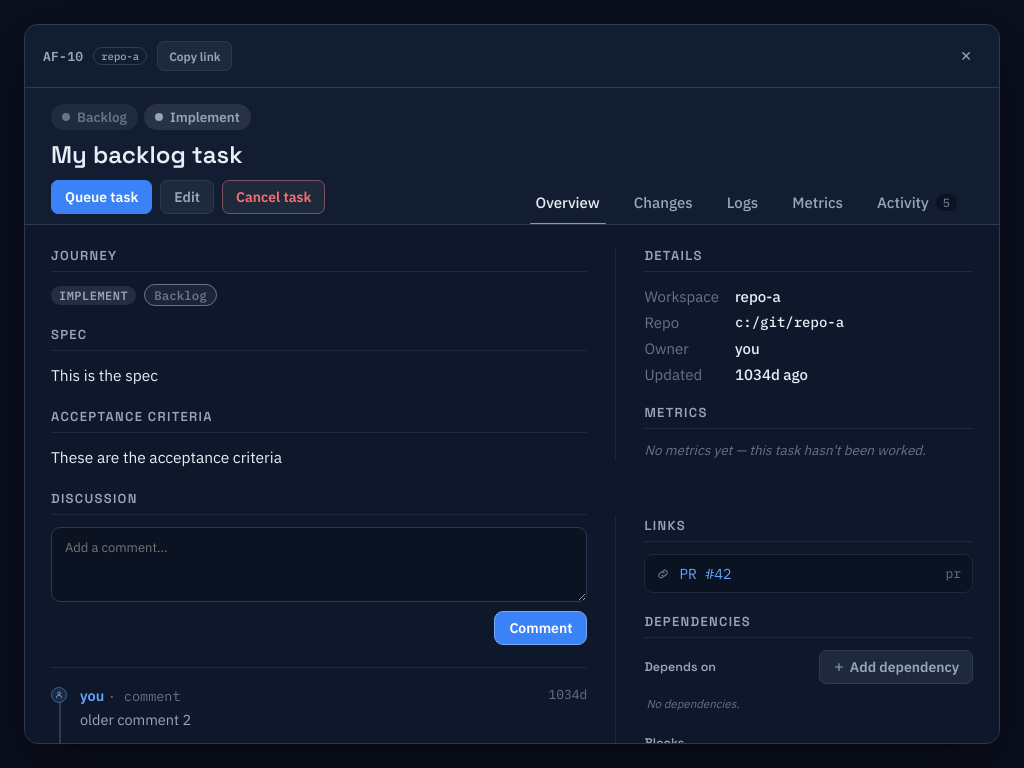
Test case: DetailPanel › tabbed layout › switches panels: Activity shows the timeline and hides the spec
Expected: the text "This is the spec" is shown, [51,365,158,385]
Expected: the text "older comment 0" is not shown
What coordinates should you click on to do the following:
click the tab "Activity 5"
I would click on:
 (917, 202)
Its box is [861,180,973,224].
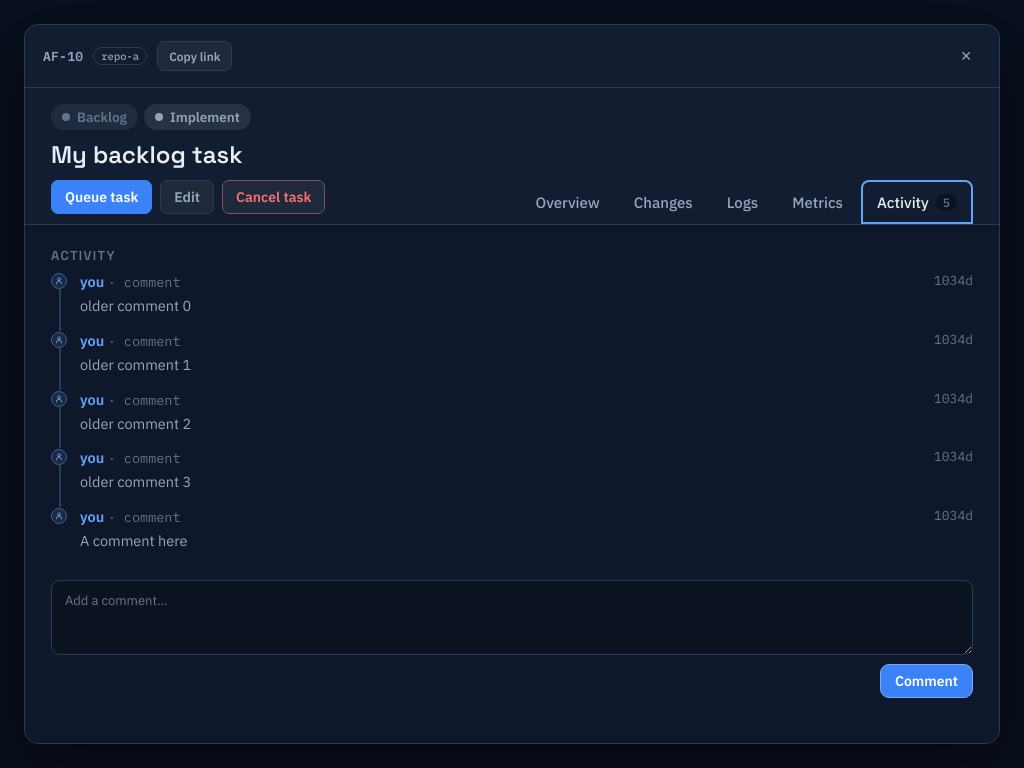
Expected: the text "older comment 0" is shown, [80,296,191,315]
Expected: the text "This is the spec" is gone
